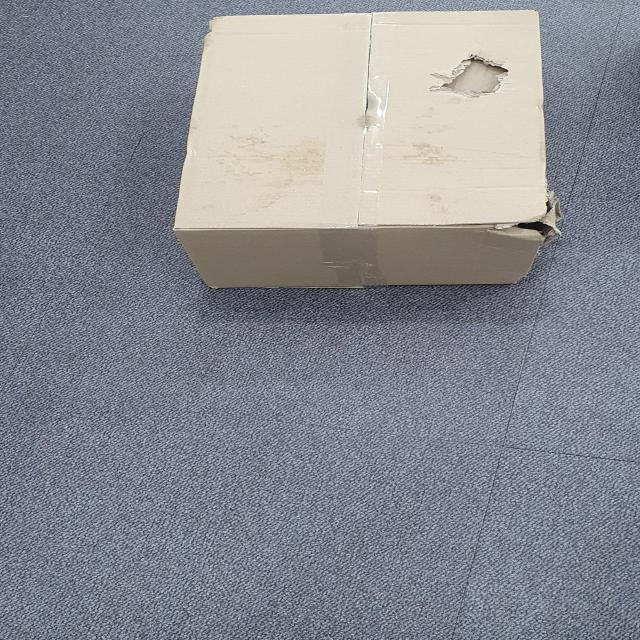hole: (428, 52, 513, 104), (481, 196, 562, 246)
